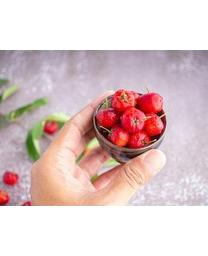cherry: (121, 108, 146, 133), (137, 92, 164, 114), (112, 89, 137, 112), (108, 124, 130, 148), (97, 105, 119, 126), (145, 115, 163, 136), (127, 133, 150, 149)
